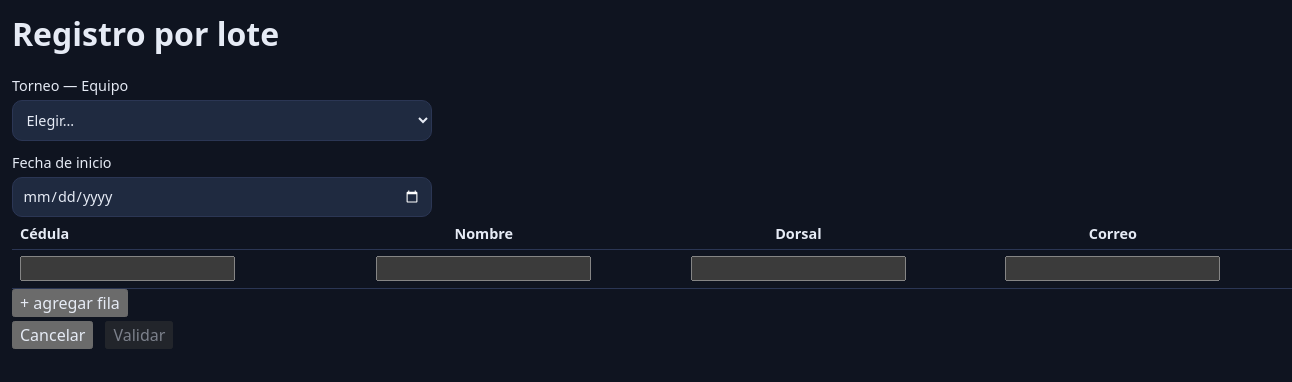
Test: RegistroLoteAdminPage › una fila inválida muestra el motivo y no bloquea Confirmar si hay válidos
Select "Copa Ecotec 2026 — Tiburones FC" in the dropdown labelled "Torneo — Equipo" at (222, 120), box [12, 100, 432, 141]
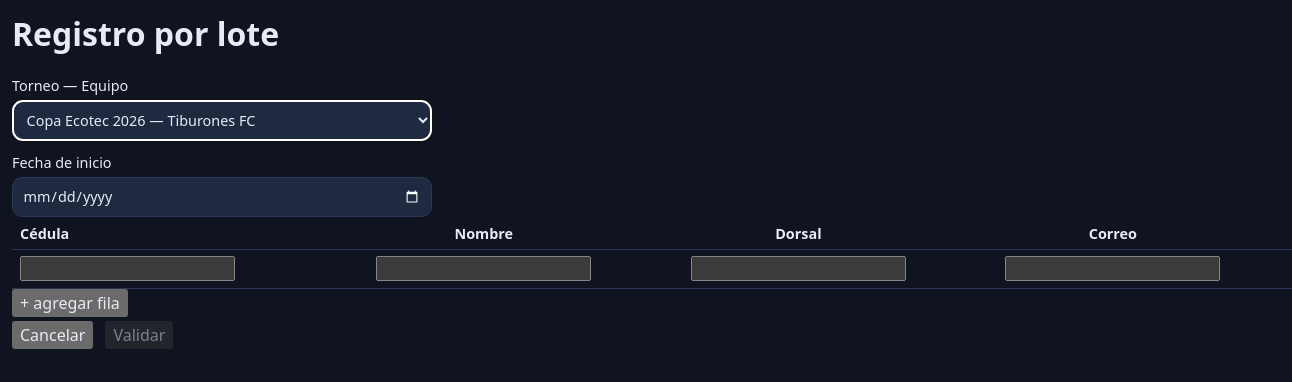
Type "2026-02-01" into the date field labelled "Fecha de inicio" at (222, 197), box [12, 177, 432, 217]
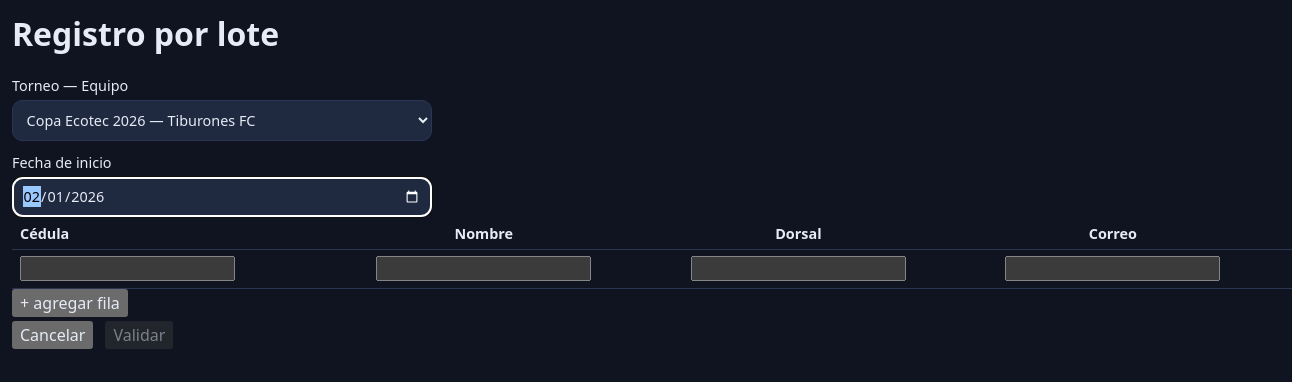
Type "0900000099" into the field named "Cédula fila 1" at (128, 269), box [20, 256, 235, 281]
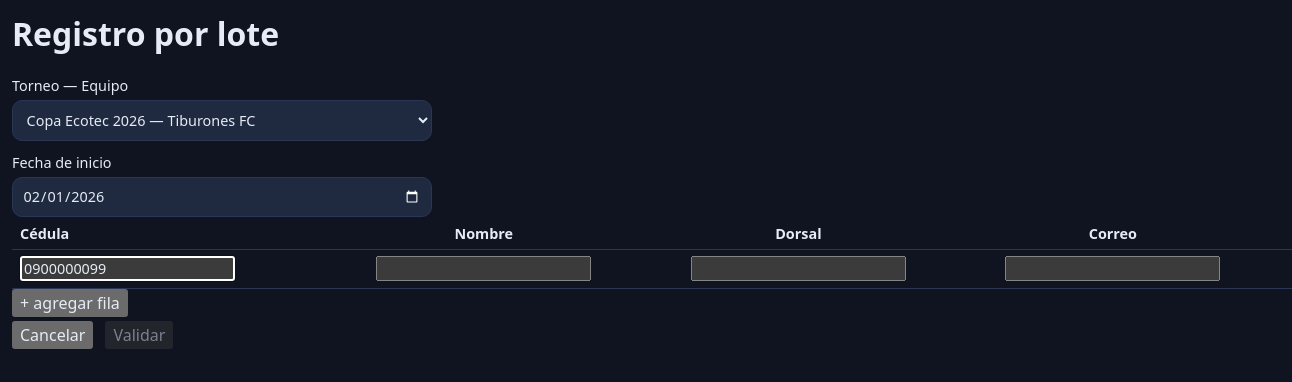
Type "Jugador Prueba" into the field named "Nombre fila 1" at (484, 269), box [376, 256, 591, 281]
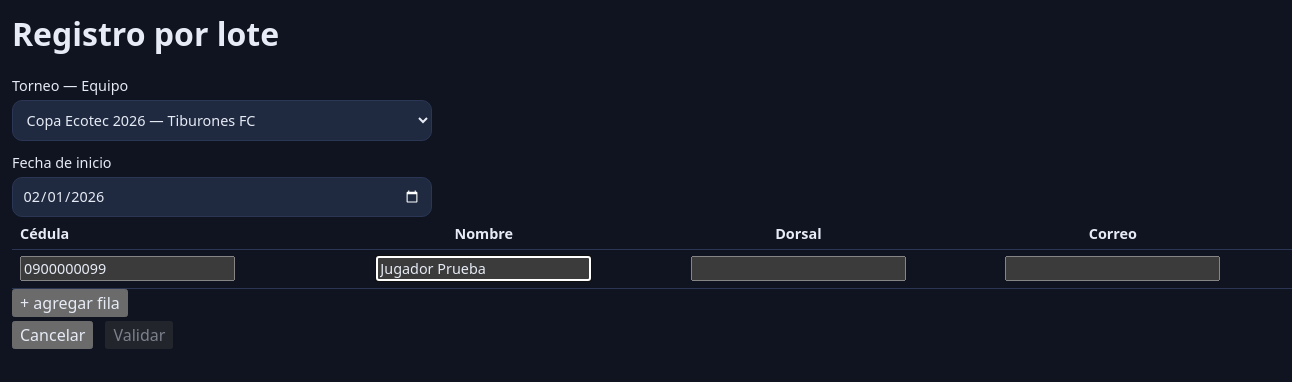
Type "prueba@example.com" into the field named "Correo fila 1" at (1113, 269), box [1005, 256, 1220, 281]
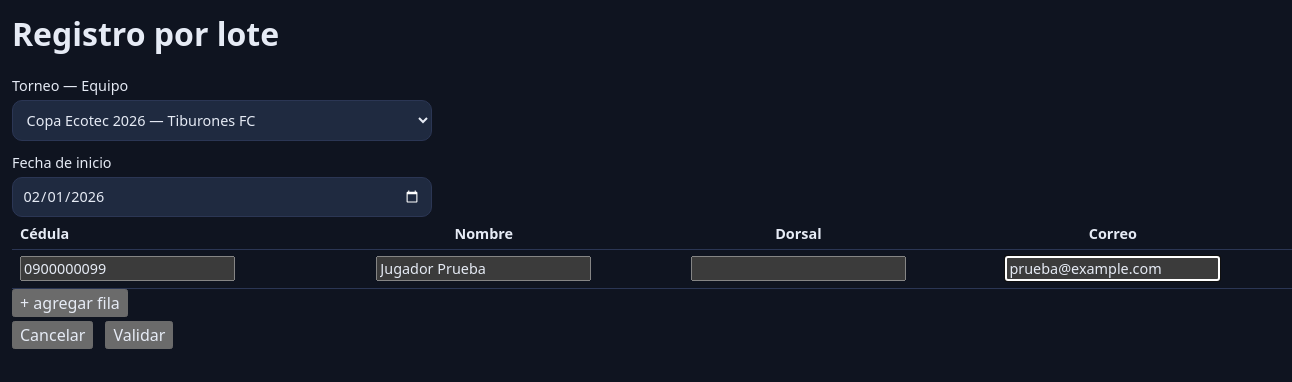
Click the button "Validar" at (139, 335), box [105, 321, 173, 349]
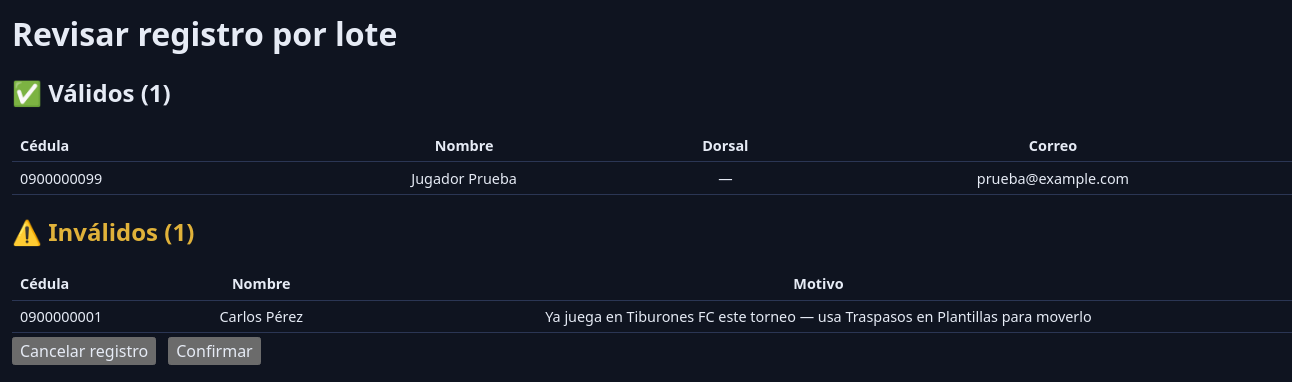
expect the button "Confirmar" is enabled: met, box [168, 337, 261, 365]
expect the heading "⚠️ Inválidos (1)" is shown: met, box [12, 215, 194, 248]
expect the text "Ya juega en Tiburones FC" is shown: met, box [545, 307, 1092, 326]
